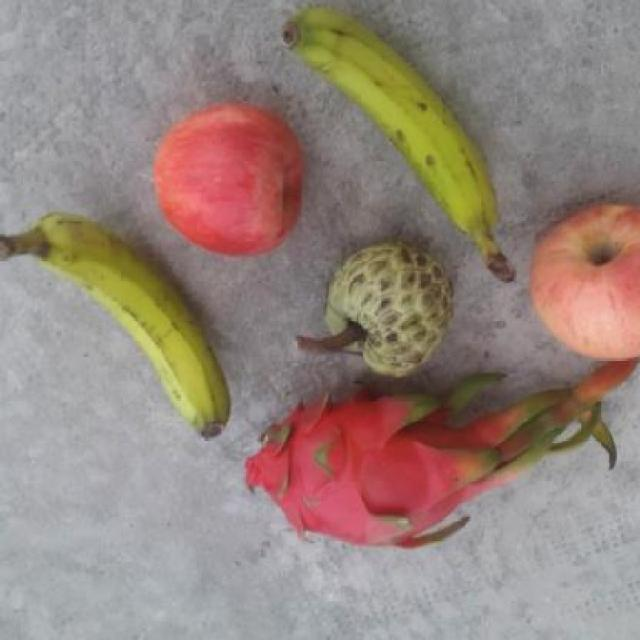apple: (151, 94, 311, 260), (524, 202, 639, 362)
banana: (268, 6, 522, 286), (0, 211, 237, 443)
dragon fruit: (232, 383, 520, 566)
sugar apple: (303, 241, 459, 379)
